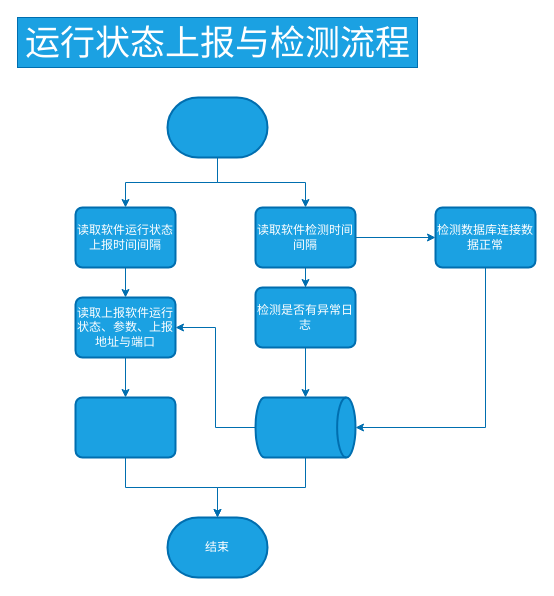
The diagram is 554 pixels wide and 596 high, and some of its shapes have lost their labels. Each missing label, with the box of its shape:
共性服务: (74, 396, 176, 458)
开始: (166, 96, 268, 158)
本系统数据库: (254, 396, 356, 458)
